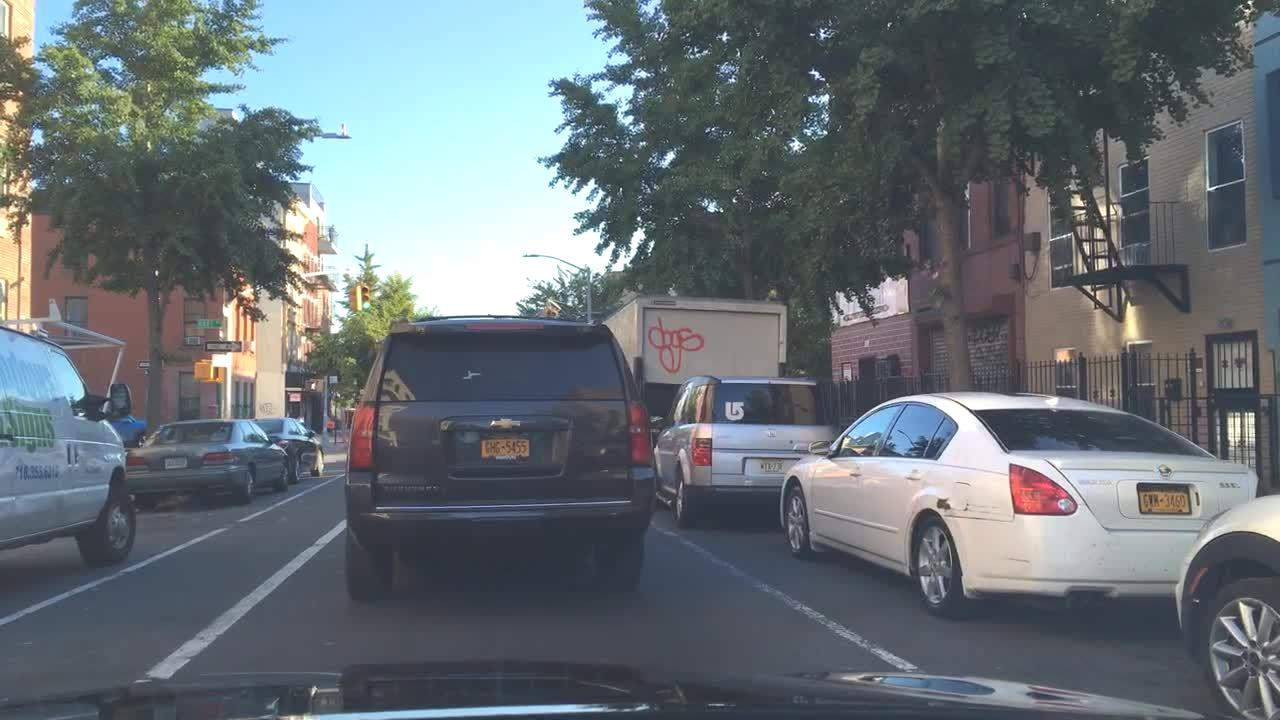chevrolet: (489, 414, 521, 433)
